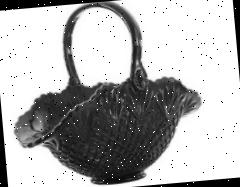glass: (2, 0, 207, 187)
